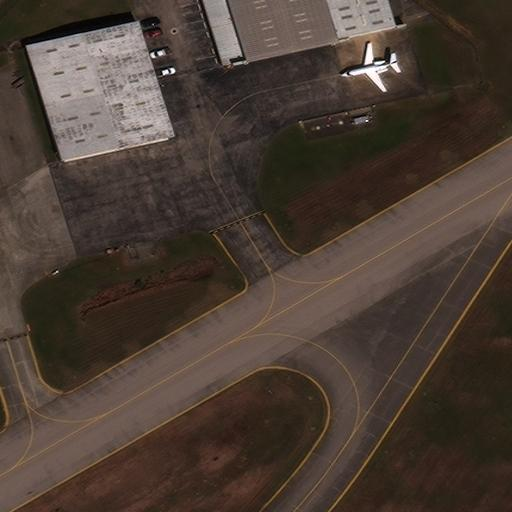Medium Civil Transport: (341, 42, 399, 92)
